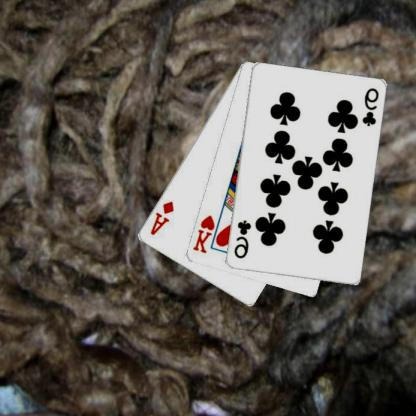9C: (233, 218, 254, 260), (361, 86, 382, 128)
AD: (149, 198, 177, 237)
KH: (192, 213, 218, 255)
